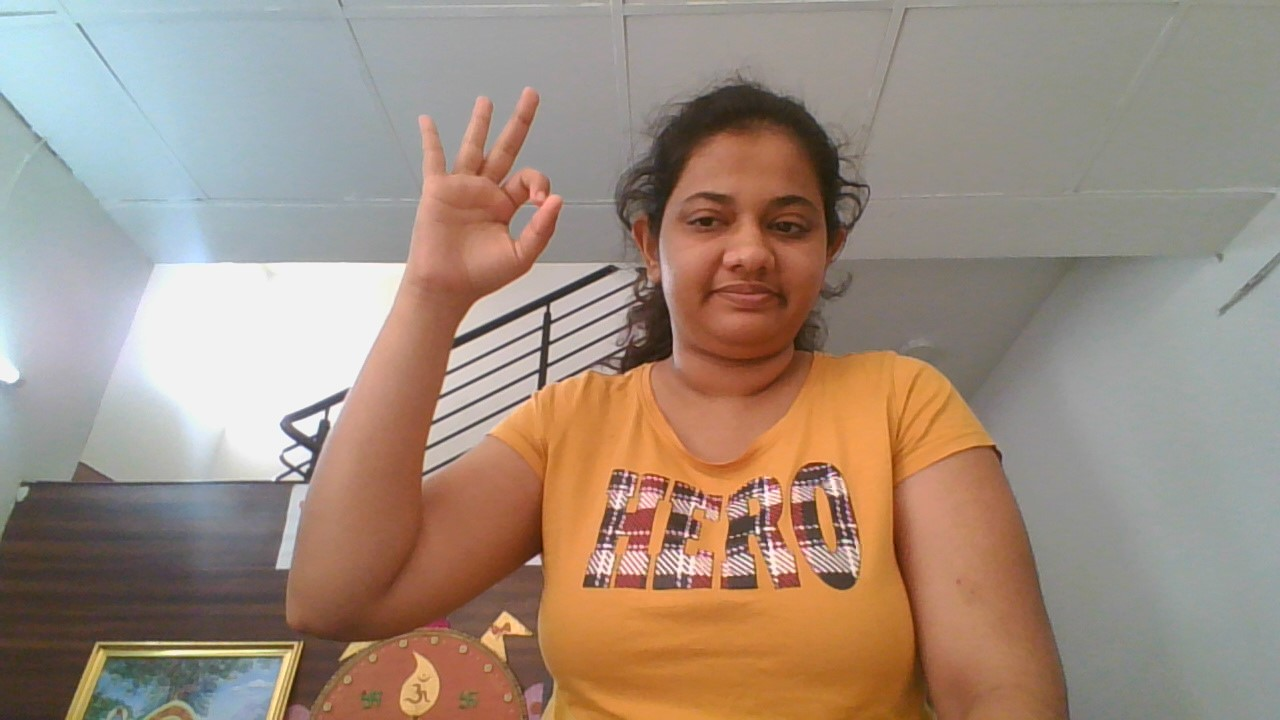f: (392, 82, 583, 304)
